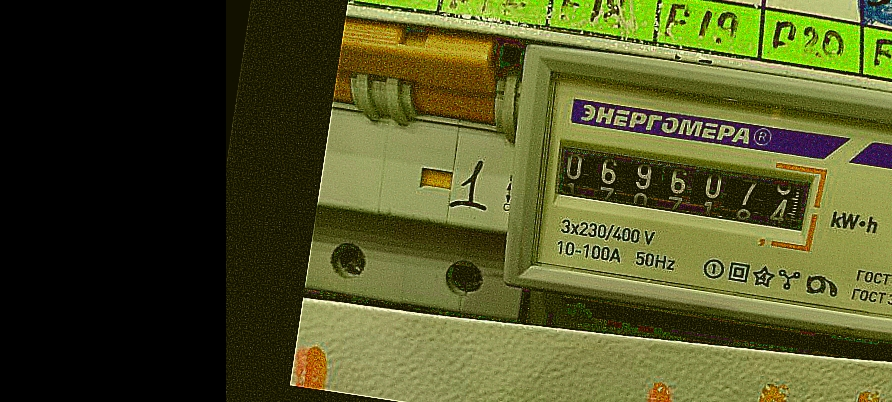0: (561, 149, 587, 182), (702, 170, 725, 201)
4: (766, 194, 789, 226)
6: (666, 164, 691, 198), (597, 155, 620, 186)
7: (737, 174, 759, 207)
9: (632, 160, 656, 192)
screen: (538, 121, 832, 254)
